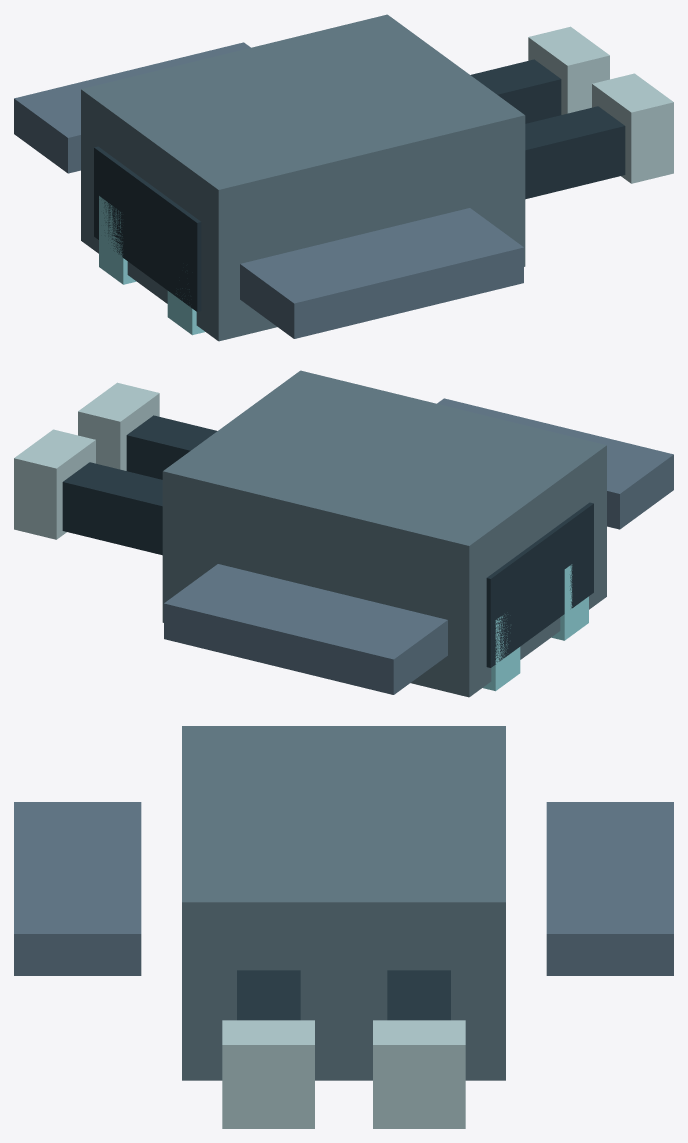
Rendered from ares-cannon-right.glb.
3 views of the same model, one above another, from view 1: azimuth 30°, elevation 25°; view 2: azimuth 150°, elevation 25°; view 3: azimuth 270°, elevation 25° (orthographic). The views are drawn at different scales.
Parts seen in each view (by area): view 1: FloatingHull, Stabilizers, GunBarrel, MuzzleRing, Thruster, ThrusterGlow; view 2: FloatingHull, Stabilizers, GunBarrel, MuzzleRing, Thruster, ThrusterGlow; view 3: FloatingHull, Stabilizers, MuzzleRing, GunBarrel.
Boxes of the visible parts, bbox=[...] form: FloatingHull: bbox=[81, 14, 525, 341]; Stabilizers: bbox=[14, 42, 523, 338]; GunBarrel: bbox=[470, 59, 625, 199]; MuzzleRing: bbox=[528, 26, 673, 183]; Thruster: bbox=[94, 146, 201, 311]; ThrusterGlow: bbox=[99, 196, 204, 335]; FloatingHull: bbox=[162, 370, 606, 697]; Stabilizers: bbox=[164, 398, 673, 694]; GunBarrel: bbox=[62, 415, 217, 555]; MuzzleRing: bbox=[14, 382, 159, 539]; Thruster: bbox=[486, 502, 593, 667]; ThrusterGlow: bbox=[483, 564, 588, 691]; FloatingHull: bbox=[182, 726, 505, 1080]; Stabilizers: bbox=[14, 802, 673, 975]; MuzzleRing: bbox=[222, 1020, 465, 1128]; GunBarrel: bbox=[237, 970, 450, 1020].
Bounding box in the file's own units: 5.6 × 1.8 × 5.7.
